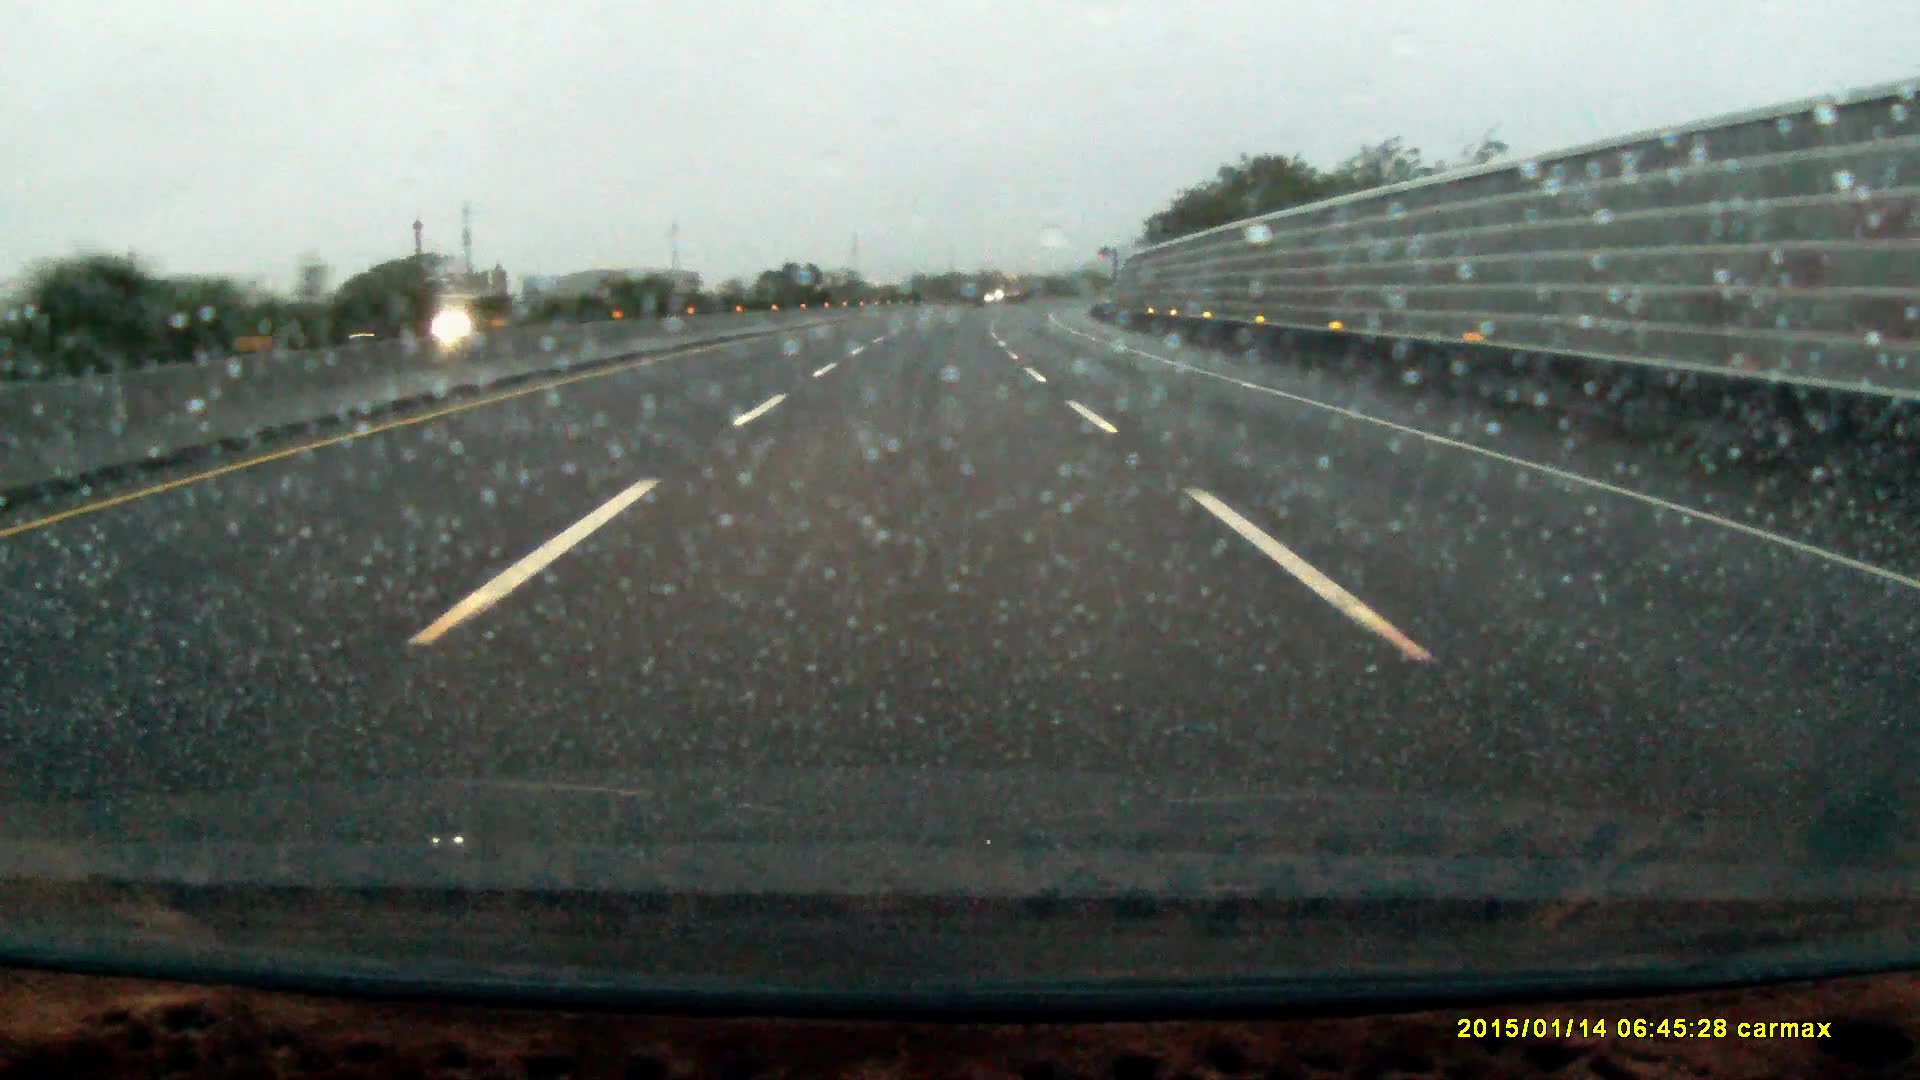vehicle: (360, 309, 452, 344)
